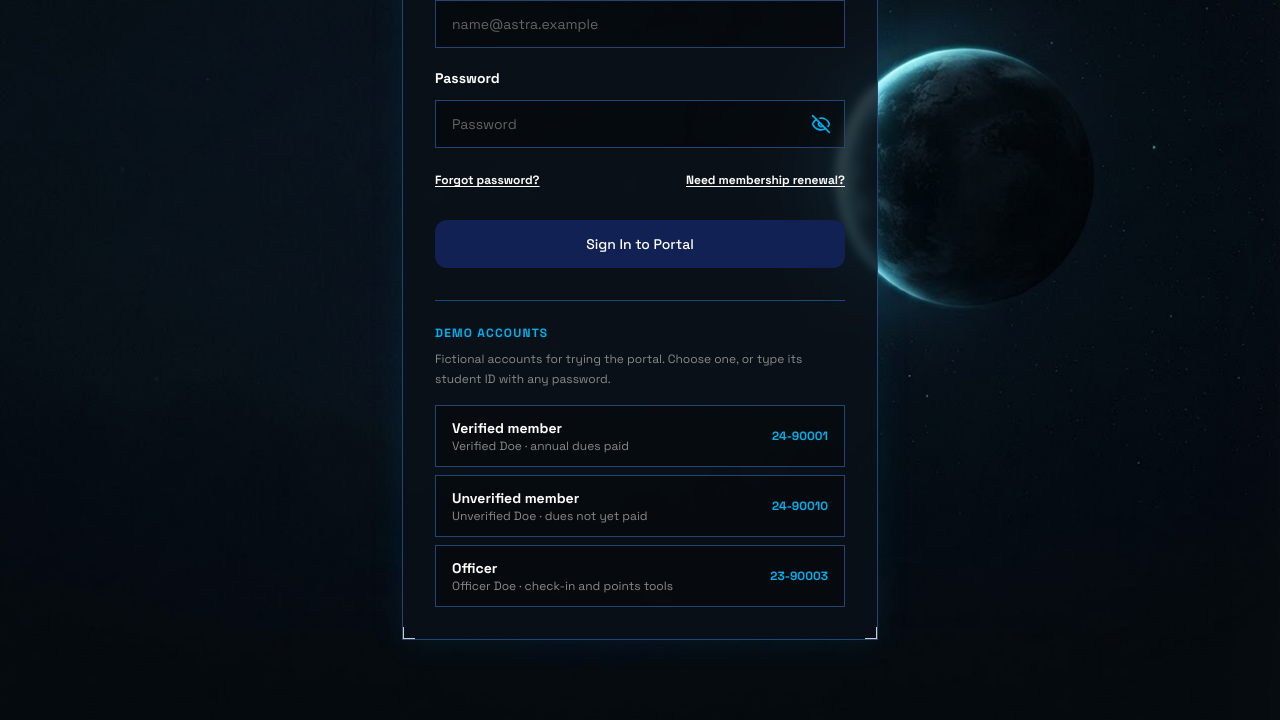
Test case: officer points › selects a member with the keyboard without granting points
The width and height of the screenshot is (1280, 720).
(page scrolled)
Click the button "Officer Officer Doe · check-in and points tools 23-90003" at (640, 576), box [435,545,845,607]
(page scrolled)
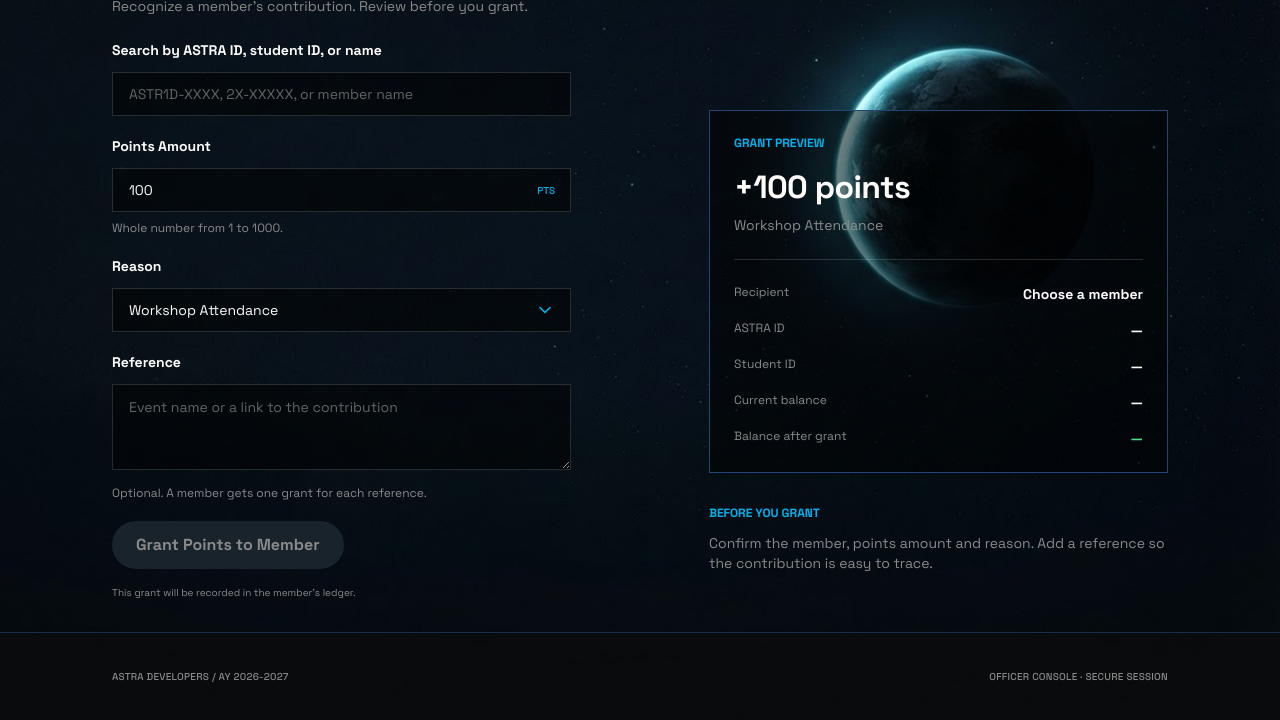
Type "24-900" into the dropdown labelled "Search by ASTRA ID, student ID, or name" at (342, 94), box [112,72,571,116]
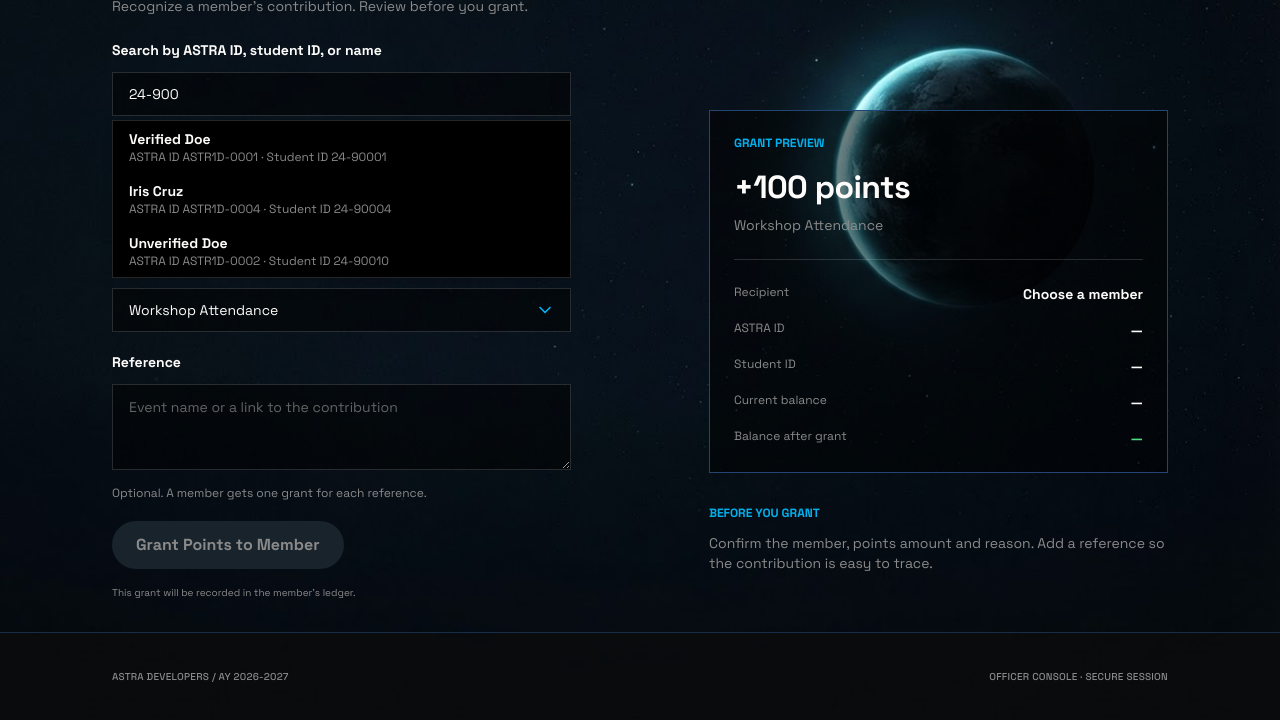
Press ArrowDown in the dropdown labelled "Search by ASTRA ID, student ID, or name", box [112,72,571,116]
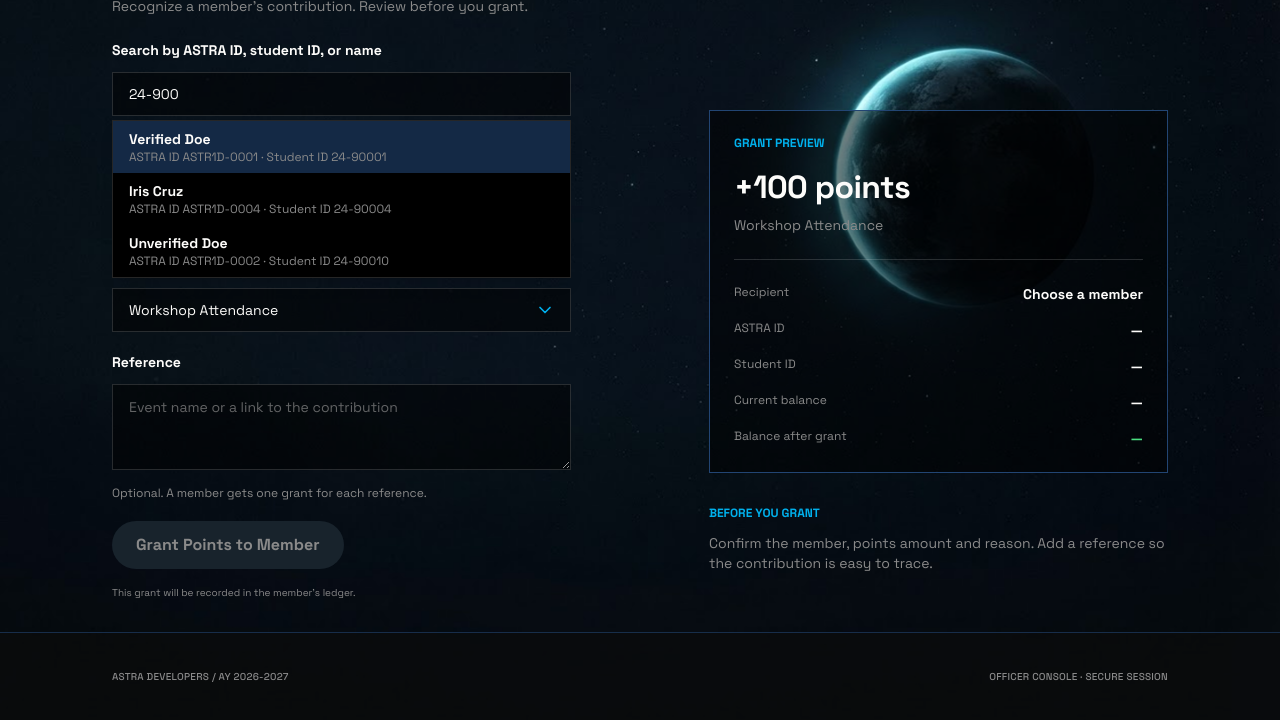
Press ArrowDown in the dropdown labelled "Search by ASTRA ID, student ID, or name", box [112,72,571,116]
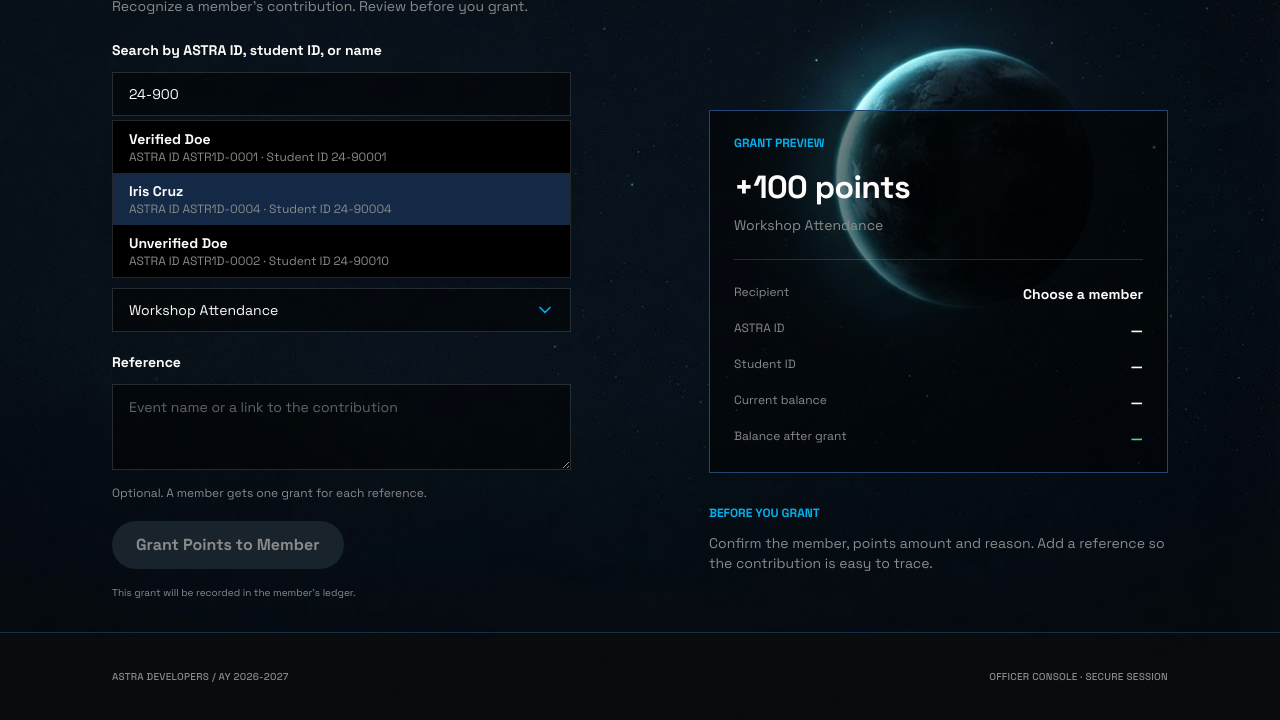
Press ArrowUp in the dropdown labelled "Search by ASTRA ID, student ID, or name", box [112,72,571,116]
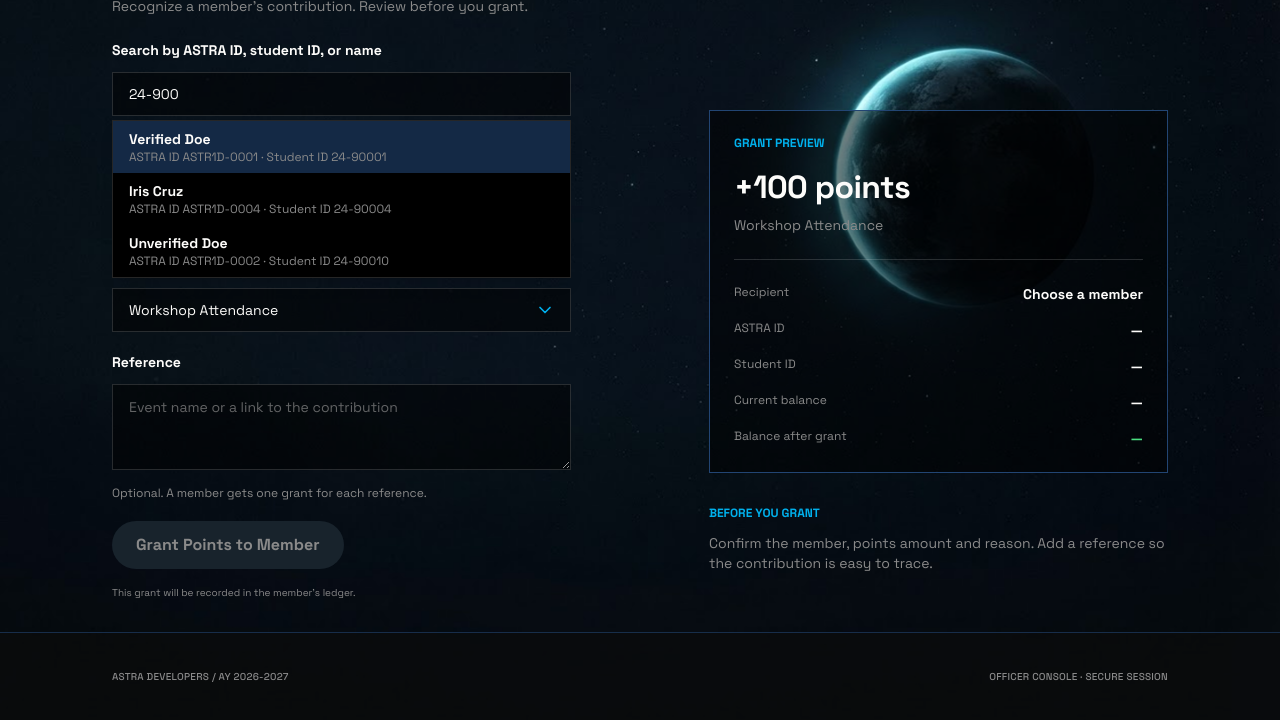
Now the option "Verified Doe ASTRA ID ASTR1D-0001 · Student ID 24-90001" is shown, box [113,121,570,173]
Press Enter in the dropdown labelled "Search by ASTRA ID, student ID, or name", box [112,72,571,116]
(page scrolled)
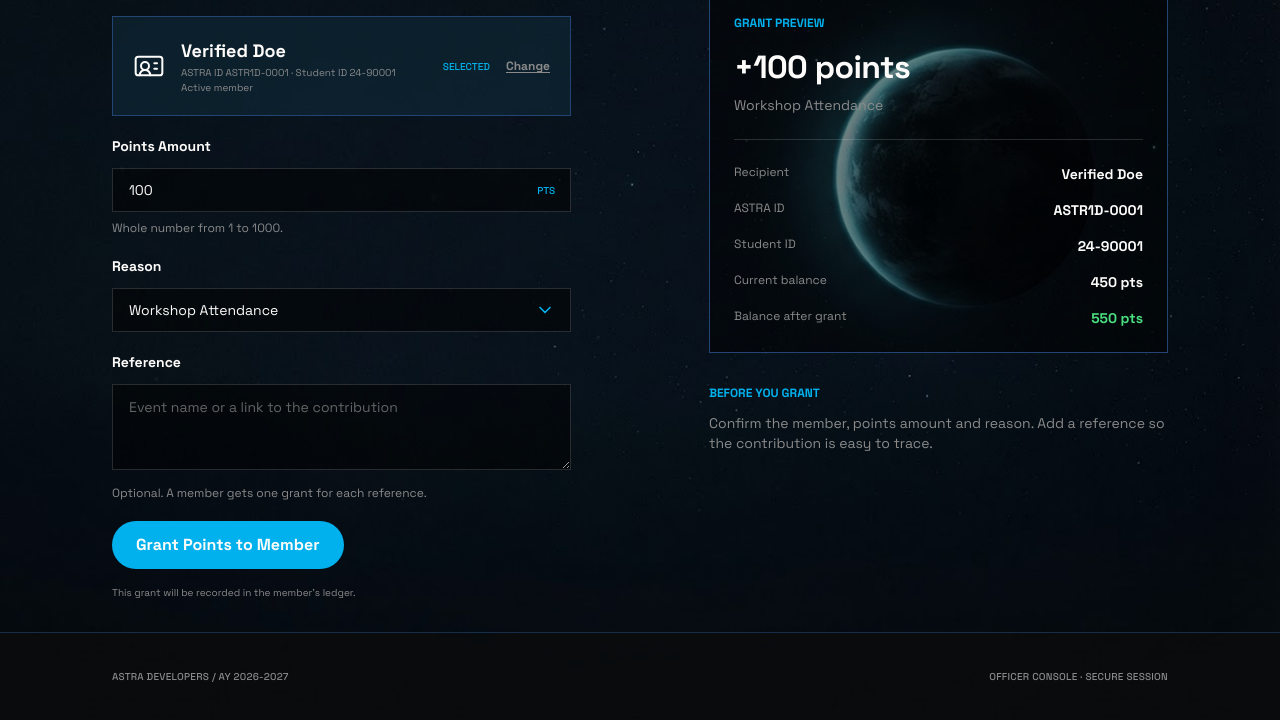
Now the text "ASTR1D-0001" is shown, box [1054,200,1143,220]
Now the text "24-90001" is shown, box [1078,236,1143,256]
Now the text "450 pts" is shown, box [1091,272,1143,292]
